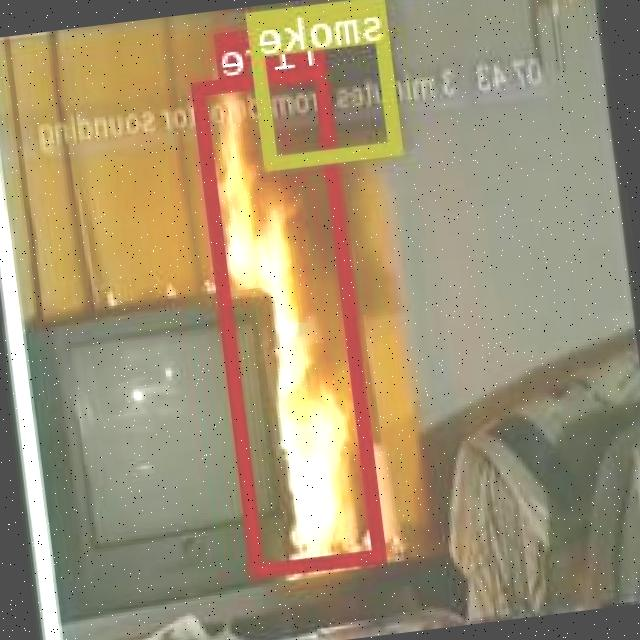fire: (194, 64, 387, 574)
smoke: (250, 0, 405, 166)
